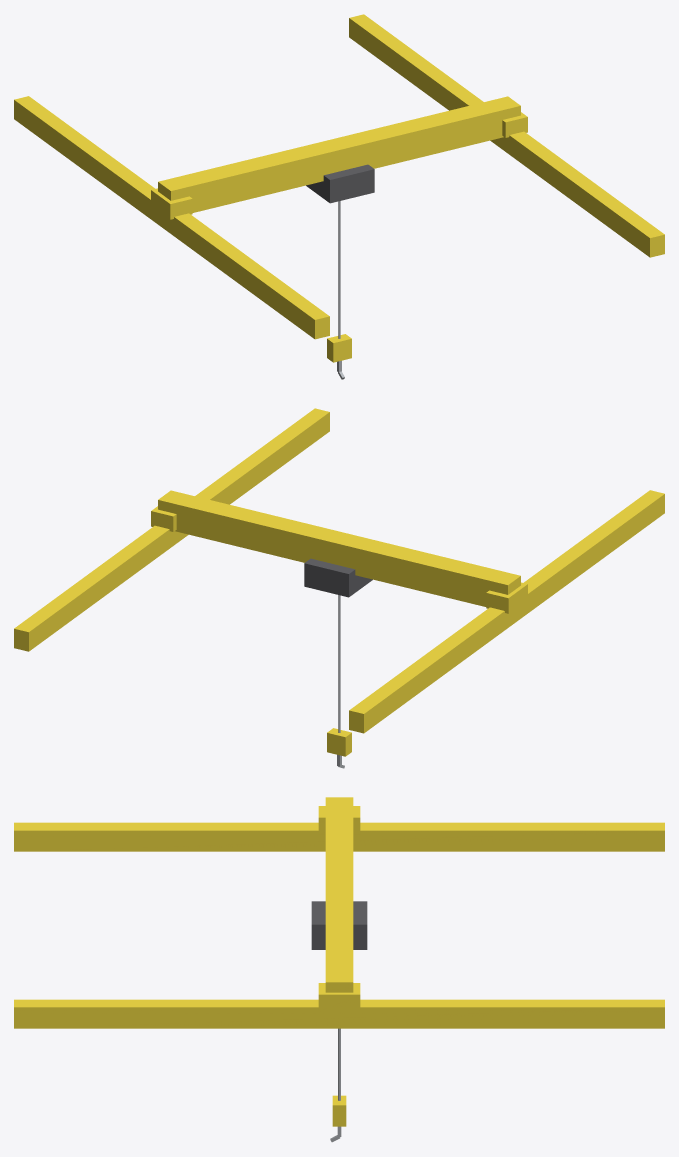
The model's file is crane.glb.
3 views of the same model, one above another, from view 1: azimuth 30°, elevation 25°; view 2: azimuth 150°, elevation 25°; view 3: azimuth 270°, elevation 25° (orthographic). The views are drawn at different scales.
Parts seen in each view (by area): view 1: Crane_Rails, Bridge, Trolley, HookBlock; view 2: Crane_Rails, Bridge, Trolley, HookBlock; view 3: Crane_Rails, Bridge, Trolley.
Boxes of the visible parts, left/top/right/bottom form: Crane_Rails: left=14, top=14, right=664, bottom=339; Bridge: left=151, top=96, right=527, bottom=219; Trolley: left=306, top=164, right=374, bottom=203; HookBlock: left=327, top=334, right=351, bottom=362; Crane_Rails: left=14, top=408, right=664, bottom=733; Bridge: left=151, top=490, right=527, bottom=613; Trolley: left=304, top=558, right=372, bottom=597; HookBlock: left=327, top=728, right=351, bottom=756; Crane_Rails: left=14, top=822, right=664, bottom=1028; Bridge: left=318, top=797, right=360, bottom=1011; Trolley: left=311, top=901, right=367, bottom=949.
Size of the model in its own units: 9.6 by 5.98 by 14.
